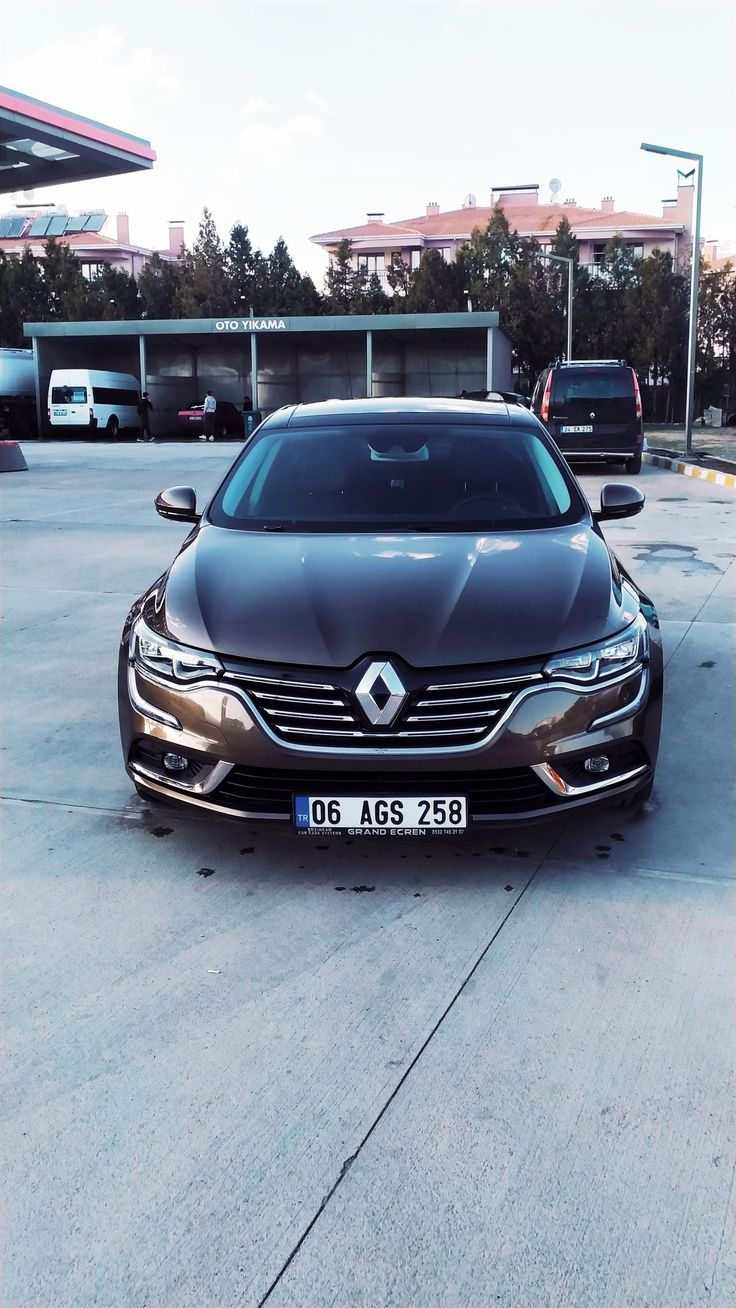plate: (297, 799, 463, 834)
